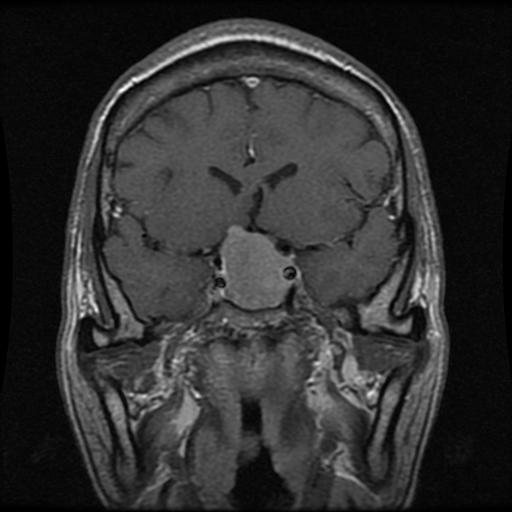Pituirity_tumour: (222, 227, 289, 306)
